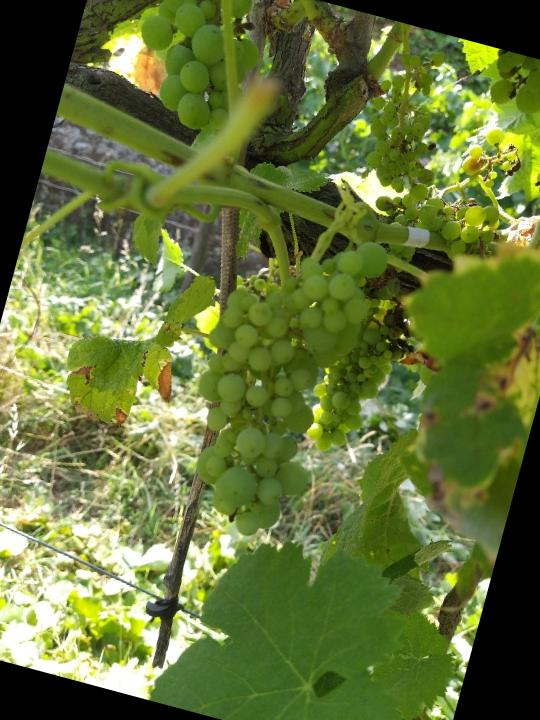grape: (158, 204, 397, 555), (305, 305, 407, 465)
